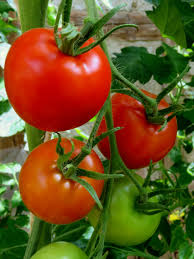stems: (111, 62, 159, 118), (68, 105, 104, 172), (118, 153, 149, 208), (60, 1, 72, 50)
tomato: (4, 27, 112, 132), (18, 137, 104, 226), (94, 89, 177, 168), (92, 174, 162, 247), (27, 240, 93, 259)
